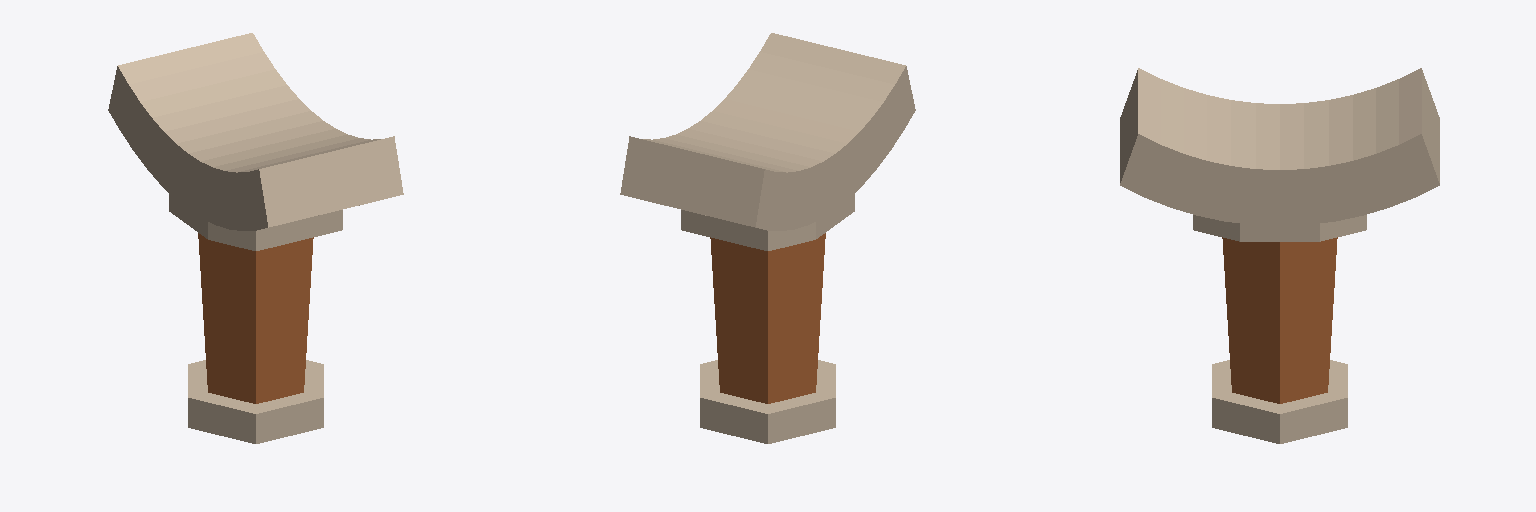
The model's file is sword_hilt.obj.
The picture shows the model from 3 angles: view 1: azimuth 30°, elevation 25°; view 2: azimuth 150°, elevation 25°; view 3: azimuth 270°, elevation 25°; orthographic projection.
Parts seen in each view (by area): view 1: sword; view 2: sword; view 3: sword.
Boxes of the visible parts, x1=… form: sword: x1=108, y1=33, x2=403, y2=443; sword: x1=620, y1=33, x2=915, y2=443; sword: x1=1120, y1=68, x2=1439, y2=443.
Bounding box in the file's own units: 0.7952 × 1.73 × 1.62.